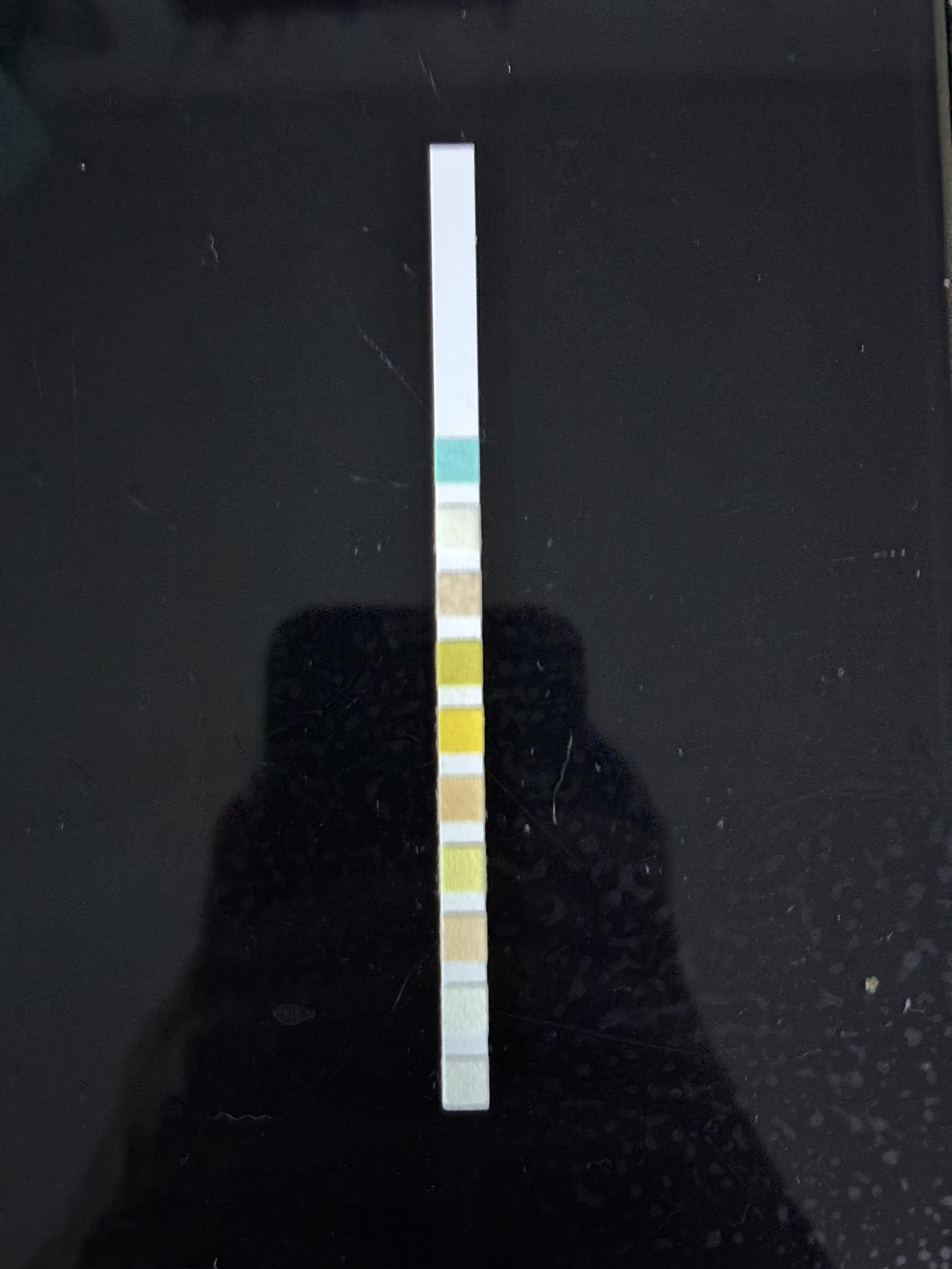Bilirubin: (438, 509, 479, 546)
Blood: (440, 711, 482, 751)
Glucose: (435, 440, 477, 482)
Ketone: (440, 576, 480, 616)
Leukocytes: (447, 1063, 488, 1105)
Nitrite: (445, 989, 486, 1029)
Protein: (444, 849, 485, 891)
SpGravity: (439, 645, 482, 684)
Urobilinogen: (443, 917, 485, 959)
pH: (442, 778, 484, 820)
strip: (432, 149, 491, 1110)
